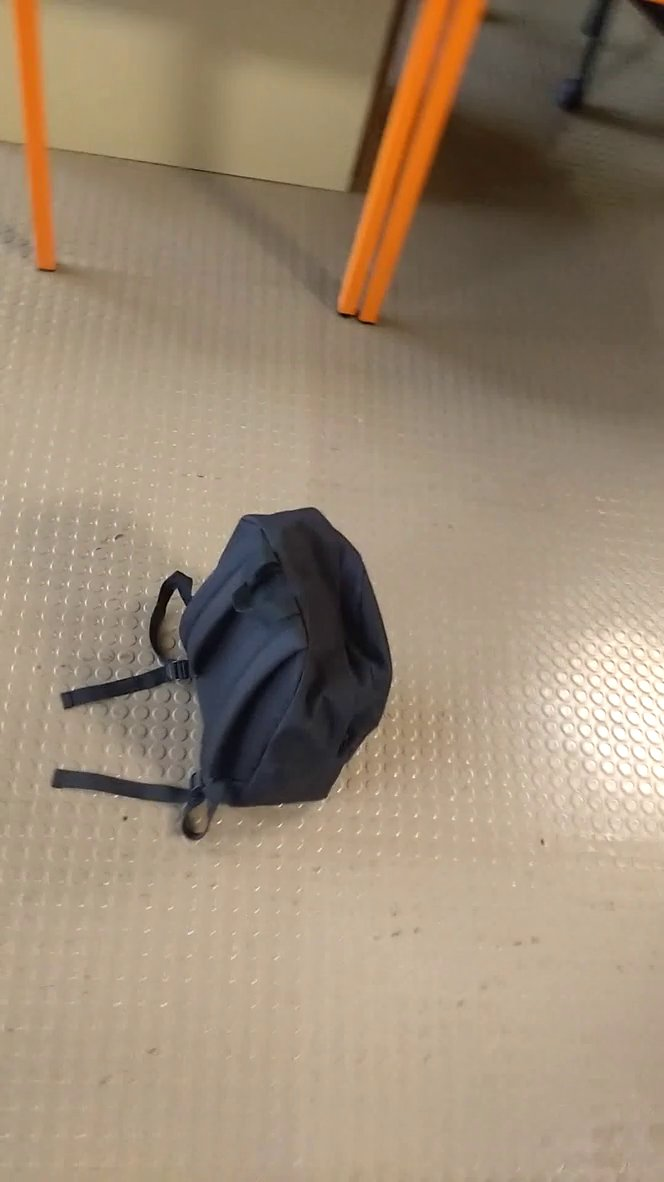bag: (48, 497, 443, 850)
